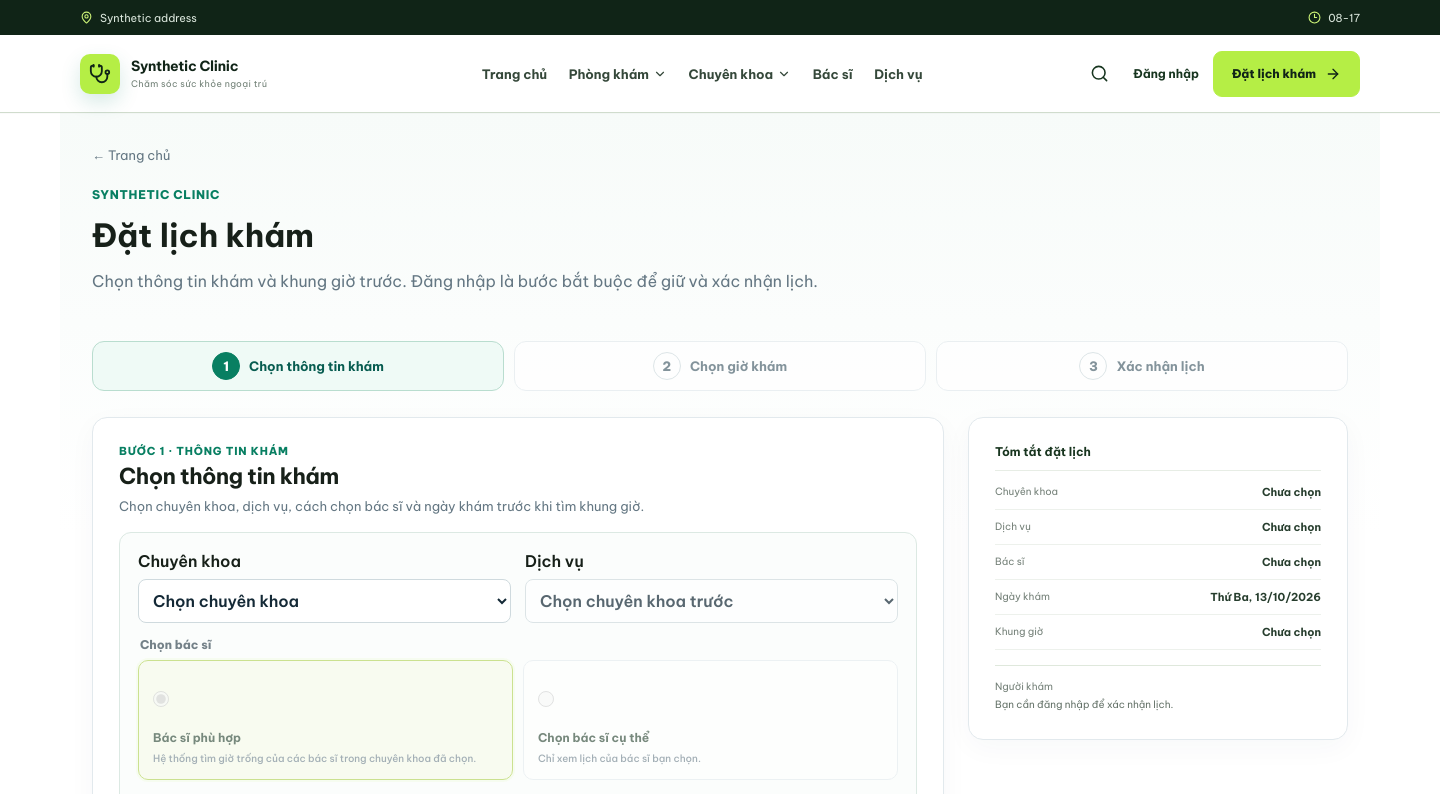
Scenario: filters Nhi doctors and services and resets invalid selections when specialty changes
Check: the heading "Chọn thông tin khám" is shown, box [119,462,339,490]
Check: the dropdown labelled "Dịch vụ" is disabled, box [525,579,898,623]
Step 1. Select "Nhi" in the dropdown labelled "Chuyên khoa" → coordinates (324, 601), box [138,579,511,623]
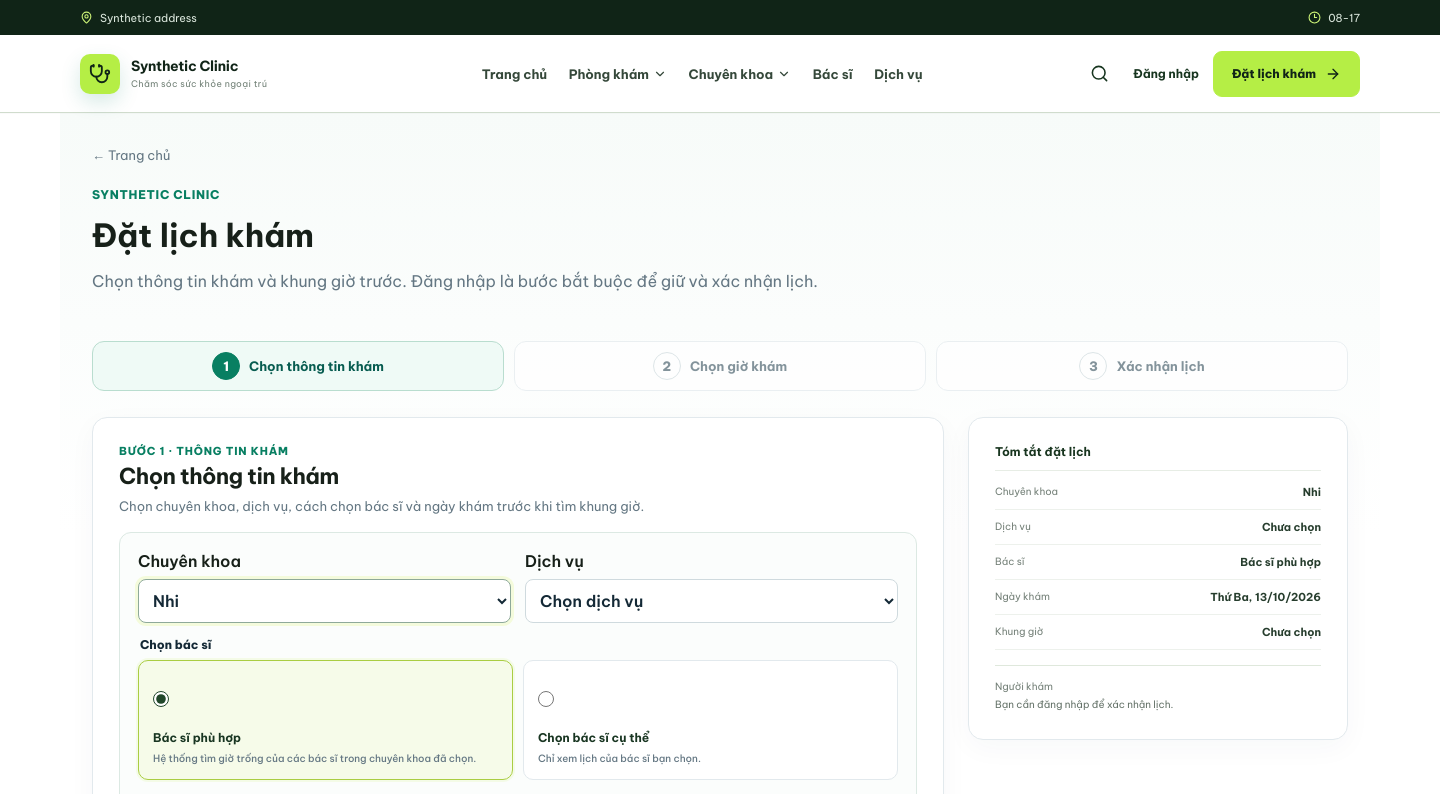
Check: the dropdown labelled "Dịch vụ" is enabled, box [525,579,898,623]
Step 2. Click the radio button labelled "Chọn bác sĩ cụ thể Chỉ xem lịch của bác sĩ bạn chọn." → coordinates (546, 699), box [538,677,554,721]
(page scrolled)
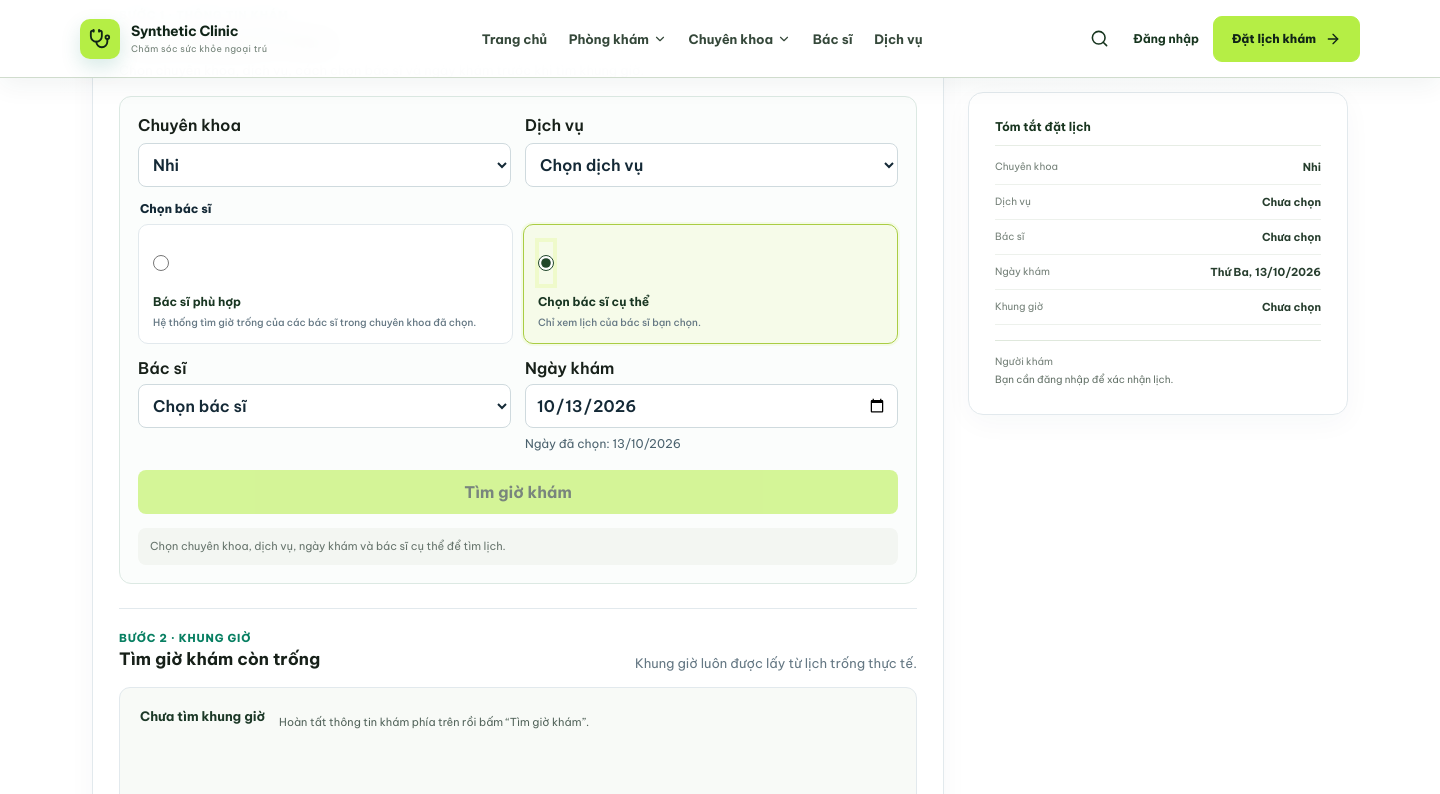
Step 3. Select "Bác sĩ Nhi" in the dropdown labelled "Bác sĩ" → coordinates (324, 406), box [138,384,511,428]
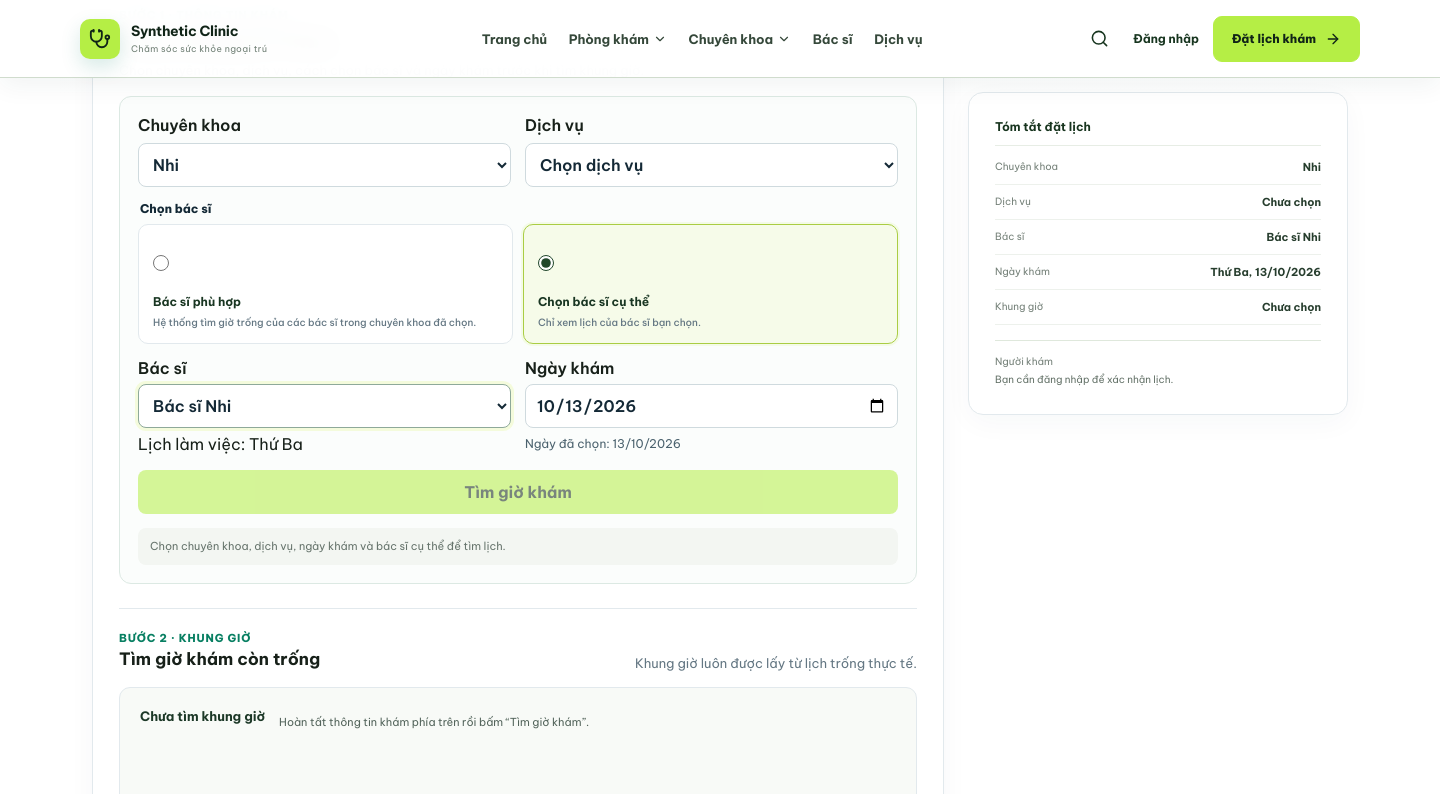
Step 4. Select "Khám Nhi" in the dropdown labelled "Dịch vụ" → coordinates (712, 165), box [525,143,898,187]
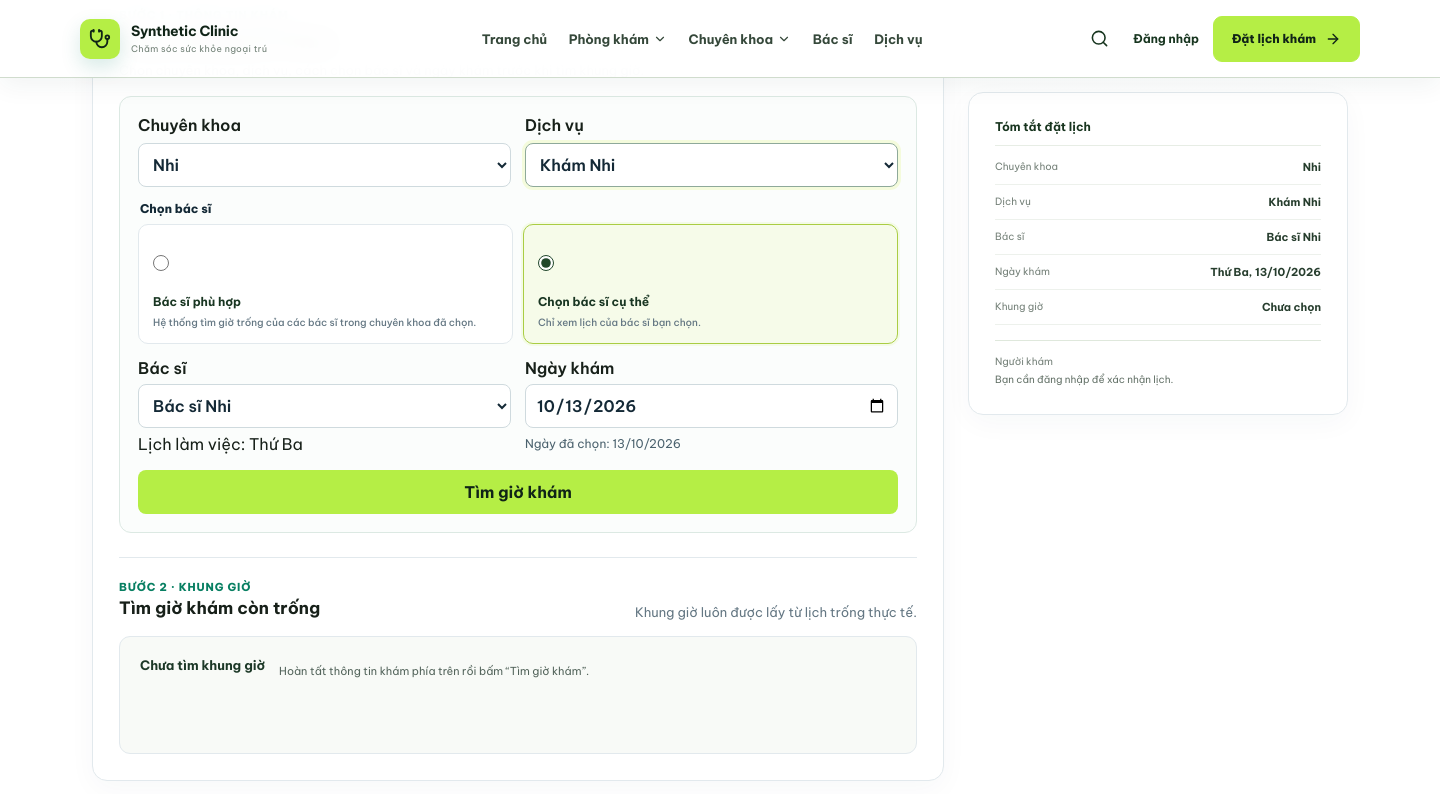
Step 5. Select "Nội khoa" in the dropdown labelled "Chuyên khoa" → coordinates (324, 165), box [138,143,511,187]
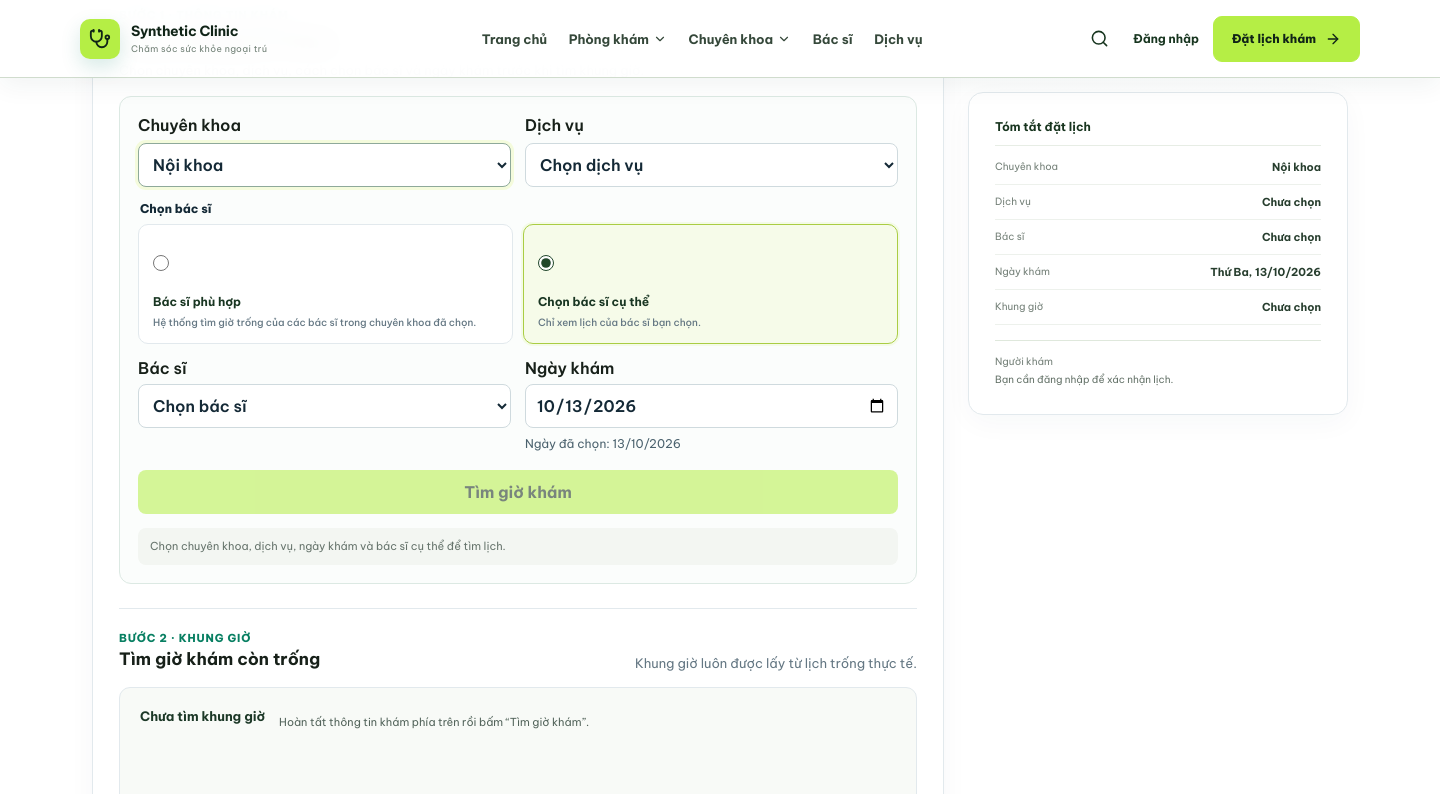
Check: the text "Bác sĩ Nhi" is gone
Check: the text "Khám Nhi" is gone
